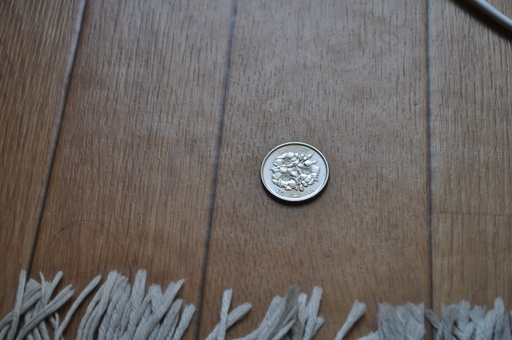100yen: (262, 143, 329, 202)
